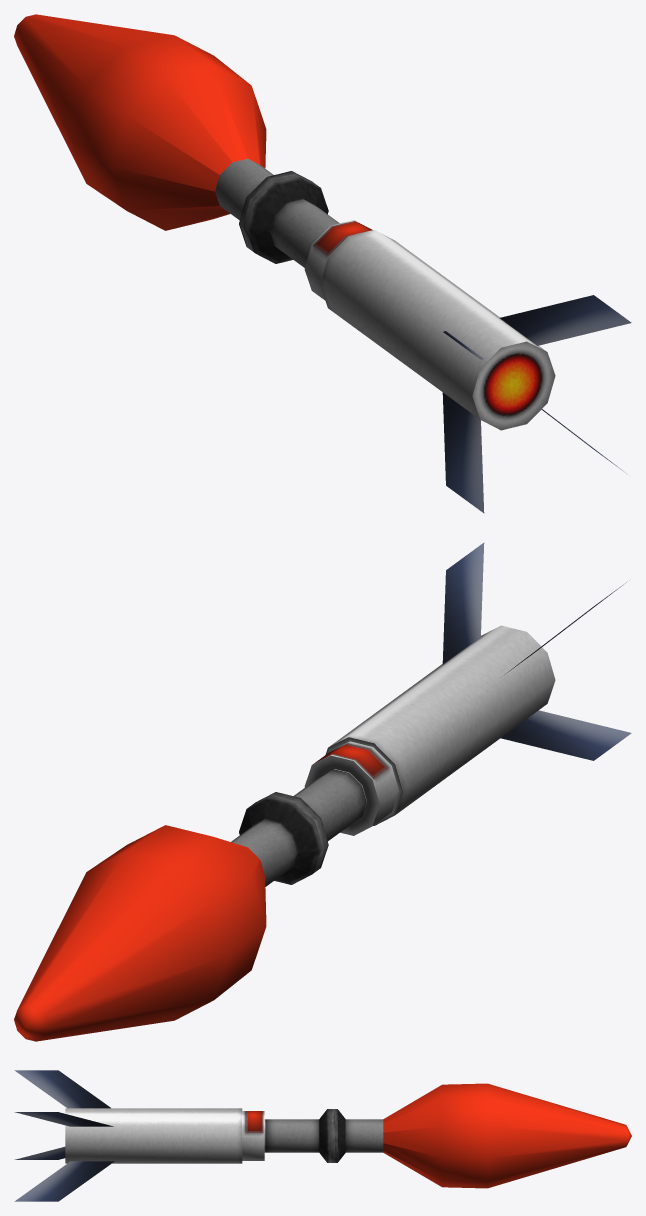
The model's file is missile.fbx.
The picture shows the model from 3 angles, top to bottom: view 1: azimuth 30°, elevation 25°; view 2: azimuth 150°, elevation 25°; view 3: azimuth 270°, elevation 25°; orthographic projection. The views are drawn at different scales.
Parts seen in each view (by area): view 1: missile; view 2: missile; view 3: missile.
Part boxes in pixels (left/top/right/bottom): missile: left=14, top=14, right=631, bottom=513; missile: left=14, top=542, right=631, bottom=1041; missile: left=14, top=1070, right=631, bottom=1201.
Bounding box in the file's own units: 0.0589 × 0.056 × 0.3442.
1 material, 1 textured.
